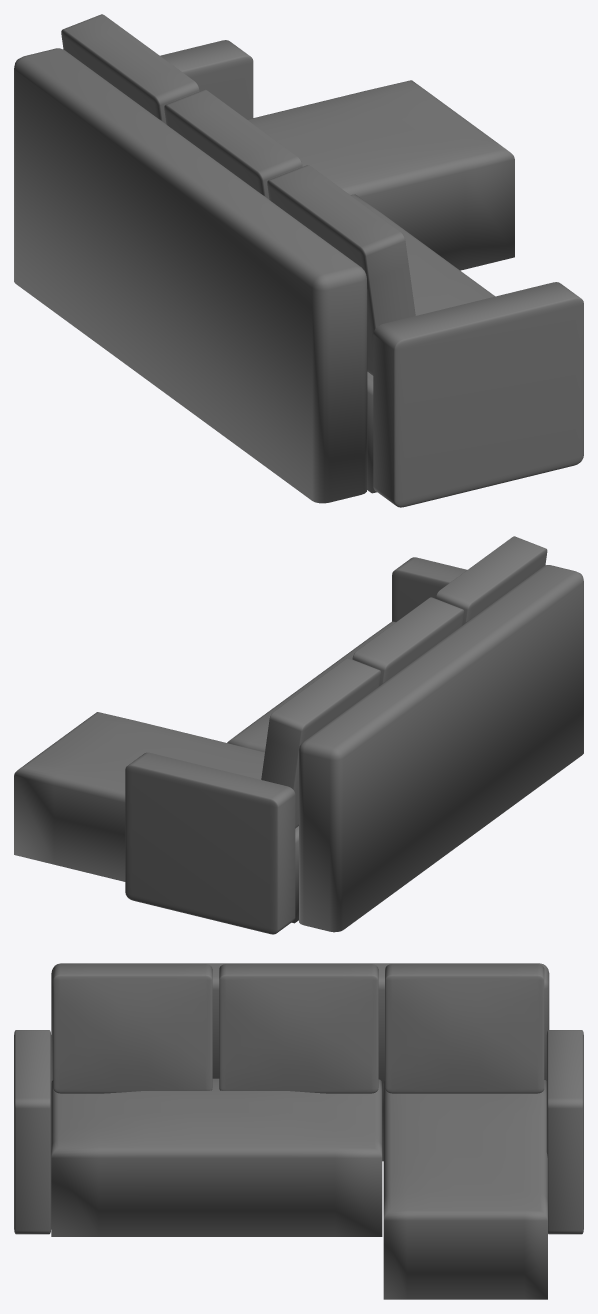
The model's file is Texturizado 6.glb.
3 renders of one model, top to bottom at view 1: azimuth 30°, elevation 25°; view 2: azimuth 150°, elevation 25°; view 3: azimuth 270°, elevation 25°, orthographic. The views are drawn at different scales.
Visible parts, largest first — view 1: Cubo.003, Cubo.001, Cube, Cubo.006, Cubo.005, Cubo.004, Cubo, Cubo.002; view 2: Cubo.003, Cubo.002, Cube, Cubo.004, Cubo.006, Cubo.005, Cubo.001, Cubo; view 3: Cubo, Cube, Cubo.004, Cubo.005, Cubo.006, Cubo.001, Cubo.002, Cubo.003.
Part boxes in pixels (bbox=[...]): Cubo.003: bbox=[14, 48, 367, 503]; Cubo.001: bbox=[373, 282, 583, 507]; Cube: bbox=[247, 80, 514, 270]; Cubo.006: bbox=[267, 165, 415, 375]; Cubo.005: bbox=[164, 89, 302, 199]; Cubo.004: bbox=[61, 14, 199, 123]; Cubo: bbox=[350, 194, 495, 493]; Cubo.002: bbox=[160, 40, 253, 119]; Cubo.003: bbox=[299, 565, 583, 932]; Cubo.002: bbox=[125, 752, 295, 934]; Cube: bbox=[14, 712, 298, 923]; Cubo.004: bbox=[261, 658, 380, 828]; Cubo.006: bbox=[435, 536, 547, 624]; Cubo.005: bbox=[352, 597, 464, 685]; Cubo.001: bbox=[392, 557, 466, 621]; Cubo: bbox=[227, 621, 395, 752]; Cubo: bbox=[51, 1078, 382, 1236]; Cube: bbox=[383, 1080, 547, 1299]; Cubo.004: bbox=[385, 964, 544, 1093]; Cubo.005: bbox=[219, 964, 378, 1093]; Cubo.006: bbox=[53, 964, 212, 1093]; Cubo.001: bbox=[14, 1030, 51, 1234]; Cubo.002: bbox=[546, 1030, 583, 1234]; Cubo.003: bbox=[51, 963, 549, 1161].
Bounding box in the file's own units: 1.51 × 0.8909 × 2.29.
1 material, 1 textured.
